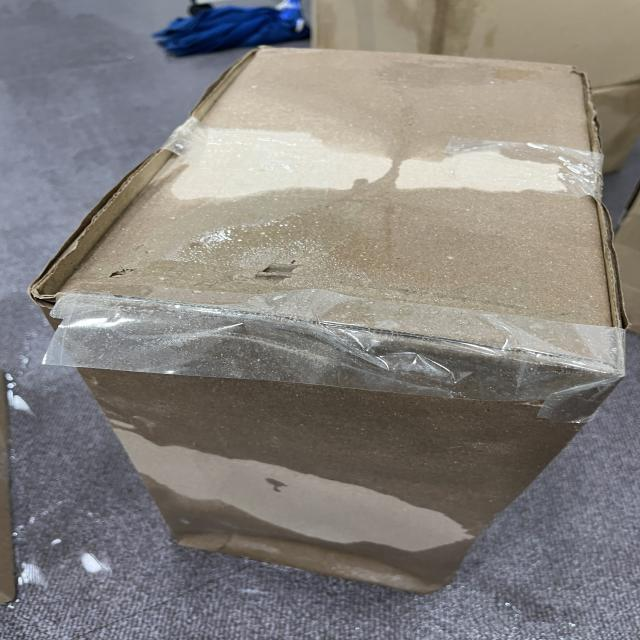wet: (80, 191, 624, 368), (80, 370, 581, 523), (175, 37, 610, 150), (149, 484, 472, 592)
